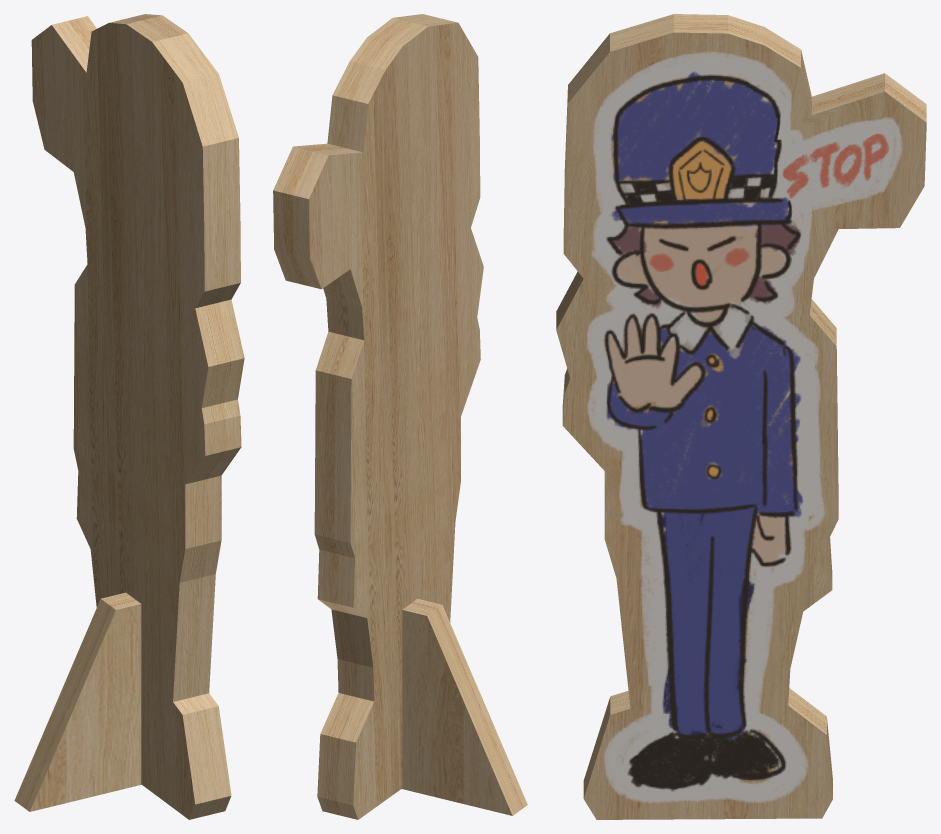
Rendered from police obstacle.fbx.
The picture shows the model from 3 angles, left to right: view 1: azimuth 30°, elevation 25°; view 2: azimuth 150°, elevation 25°; view 3: azimuth 270°, elevation 25°; orthographic projection. The views are drawn at different scales.
Parts seen in each view (by area): view 1: police; view 2: police; view 3: police.
Boxes of the visible parts, box(x1,y1,x2,y2) form: police: box(14, 14, 244, 819); police: box(273, 14, 527, 819); police: box(556, 14, 926, 819).
Size of the model in its own units: 12.46 by 60.53 by 25.82.
Materials: 1 (1 with a texture image).
